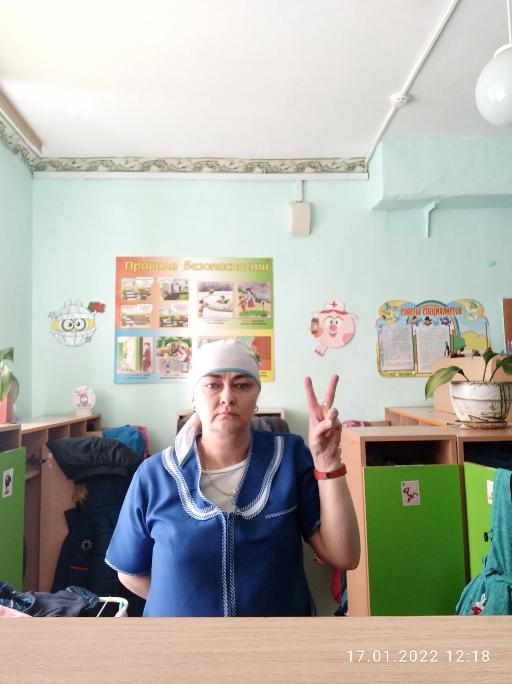peace: (302, 373, 344, 462)
